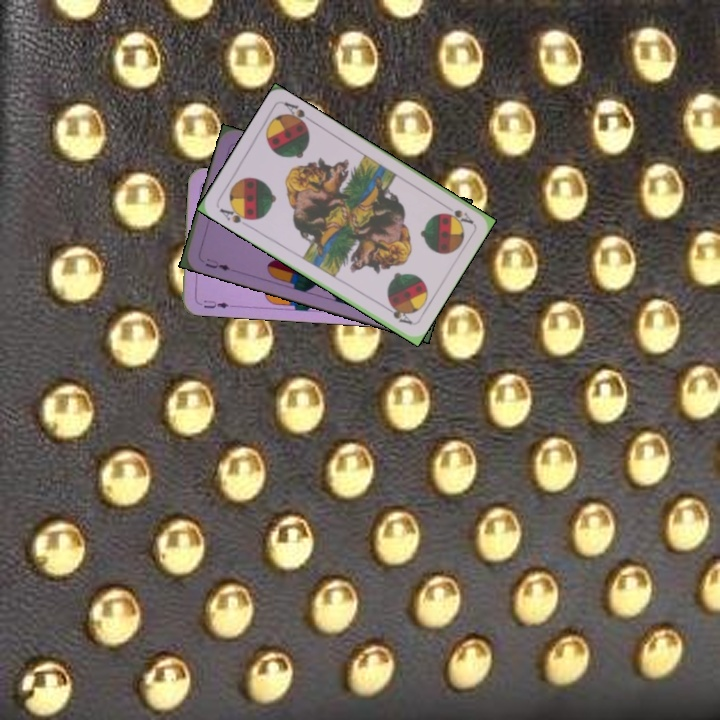EU: (201, 254, 233, 274), (200, 296, 231, 311)
SA: (215, 202, 255, 230), (439, 200, 476, 227)
